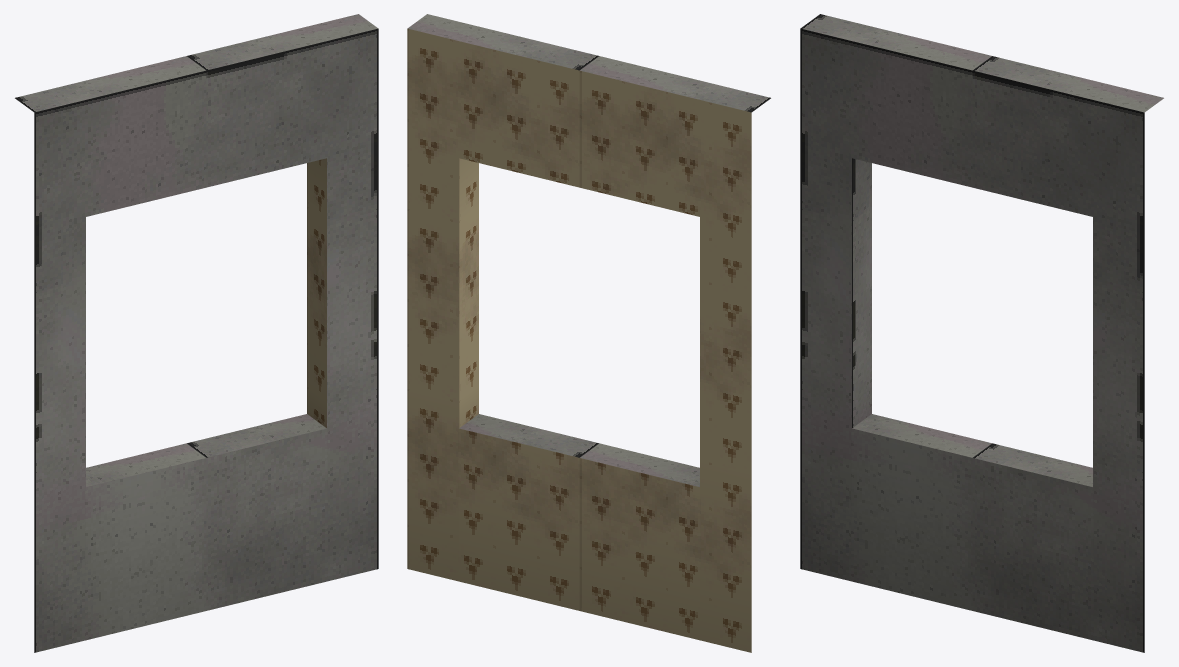
File: wall_window_panel.glb
3 renders of one model, left to right at view 1: azimuth 30°, elevation 25°; view 2: azimuth 150°, elevation 25°; view 3: azimuth 330°, elevation 25°, orthographic.
Parts seen in each view (by area): view 1: wall_window_panel; view 2: wall_window_panel; view 3: wall_window_panel.
Boxes of the visible parts, bbox=[...] form: wall_window_panel: bbox=[15, 14, 378, 652]; wall_window_panel: bbox=[407, 14, 770, 652]; wall_window_panel: bbox=[800, 14, 1163, 652].
Bounding box in the file's own units: 2 × 3 × 0.2.
